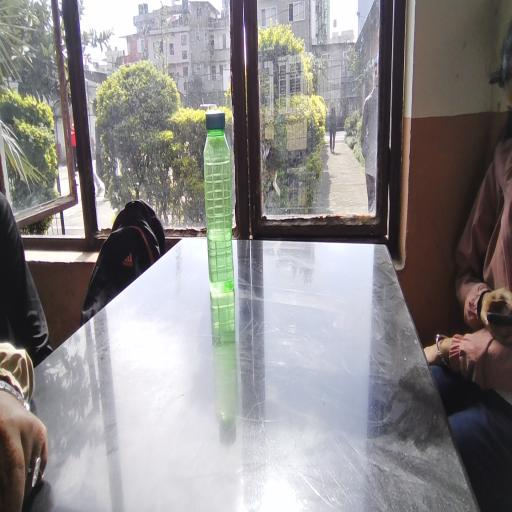Bottle: (193, 108, 255, 309)
